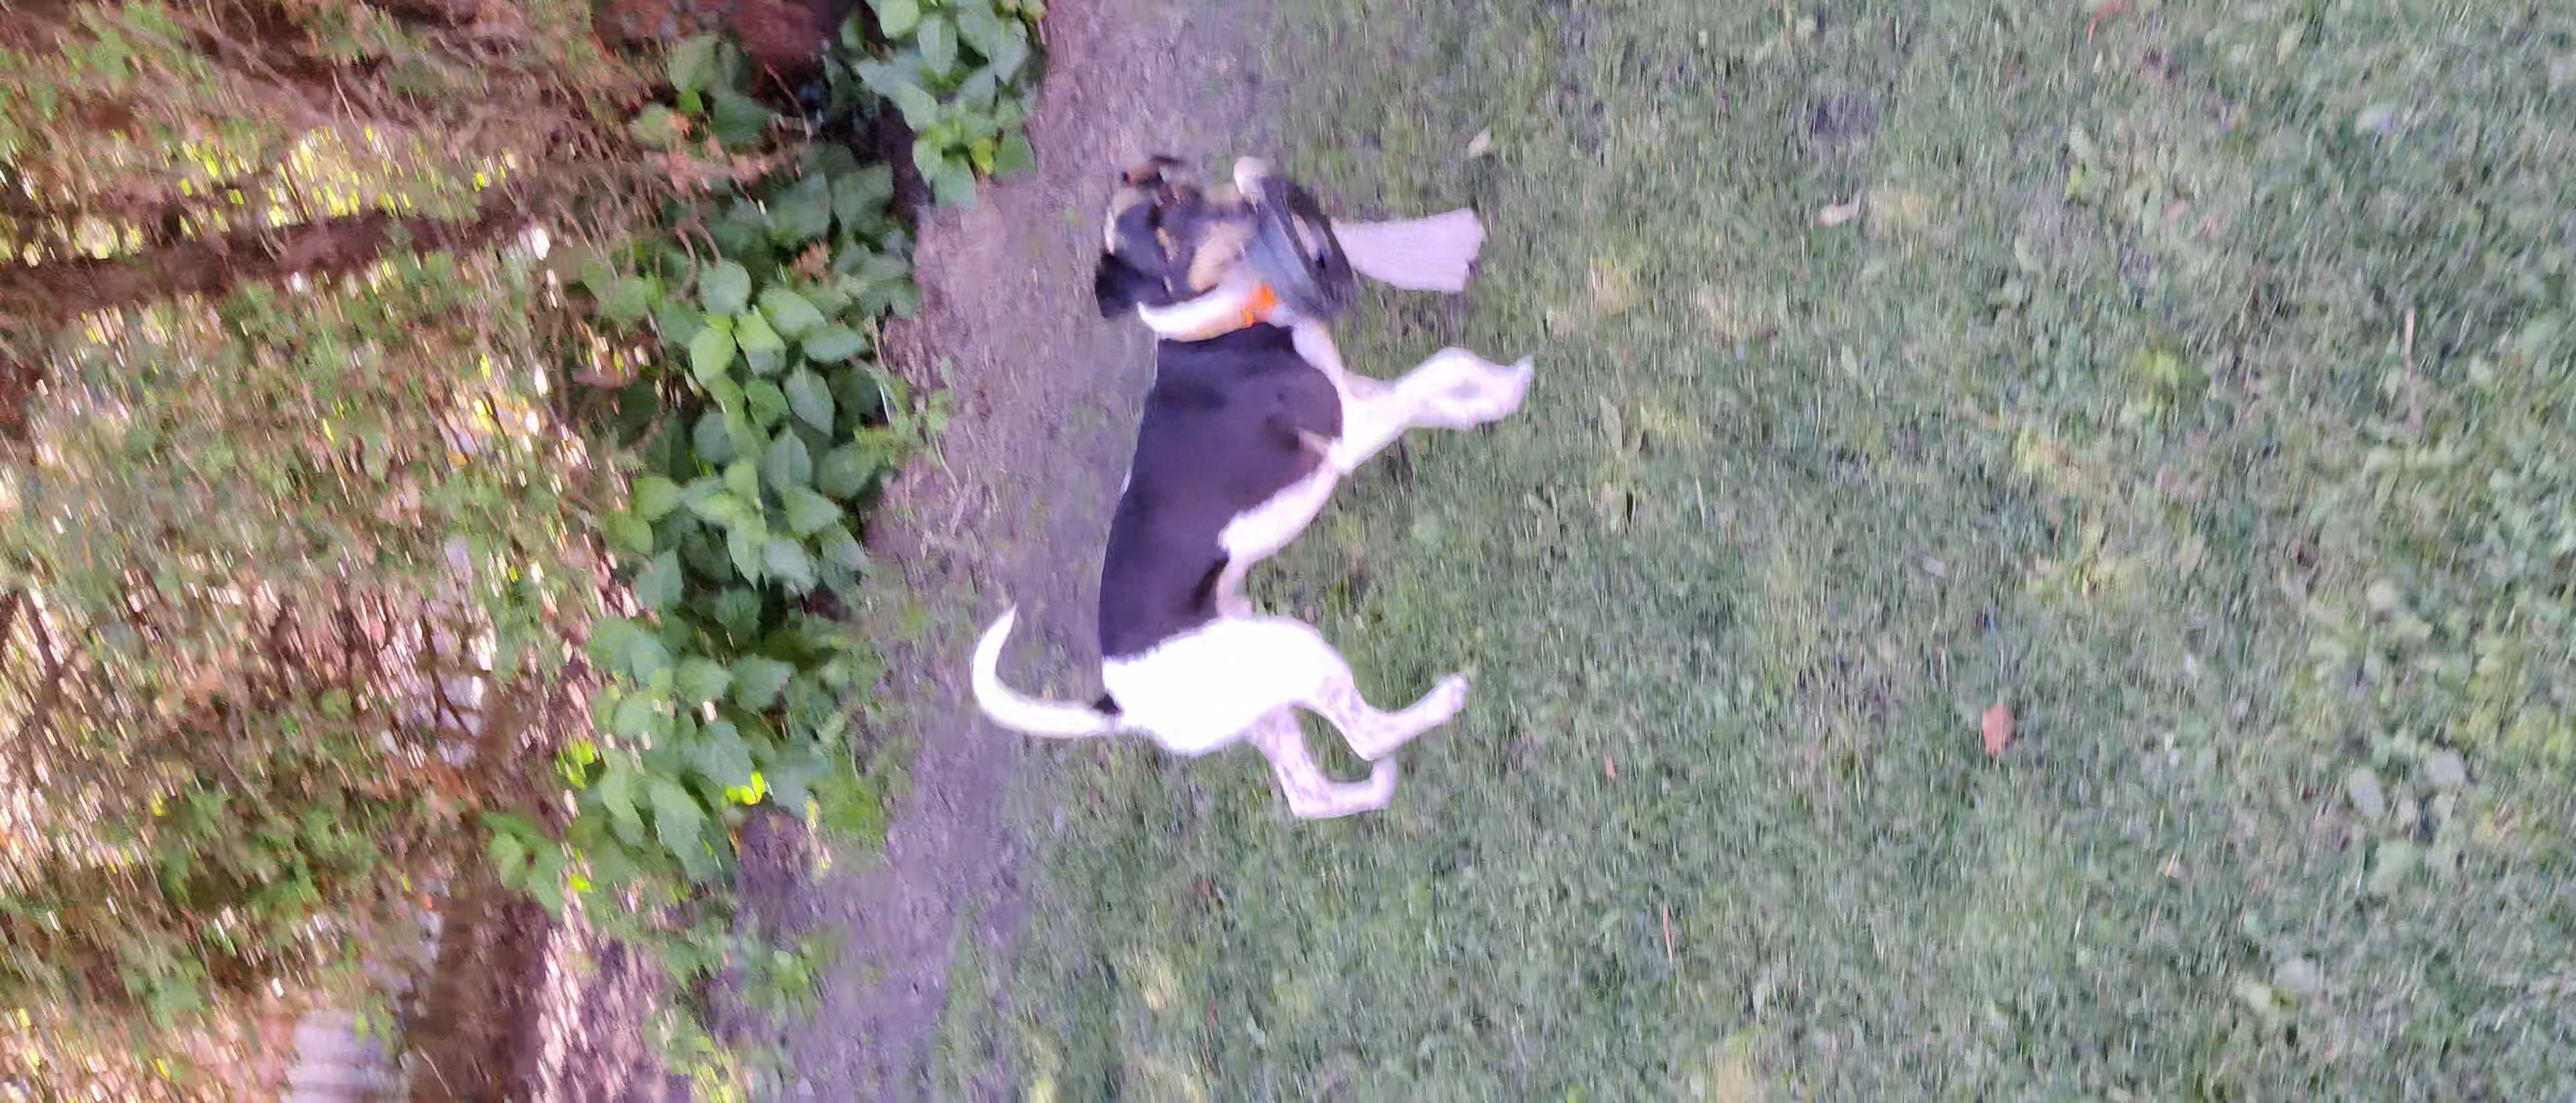Dog: (954, 135, 1544, 825)
